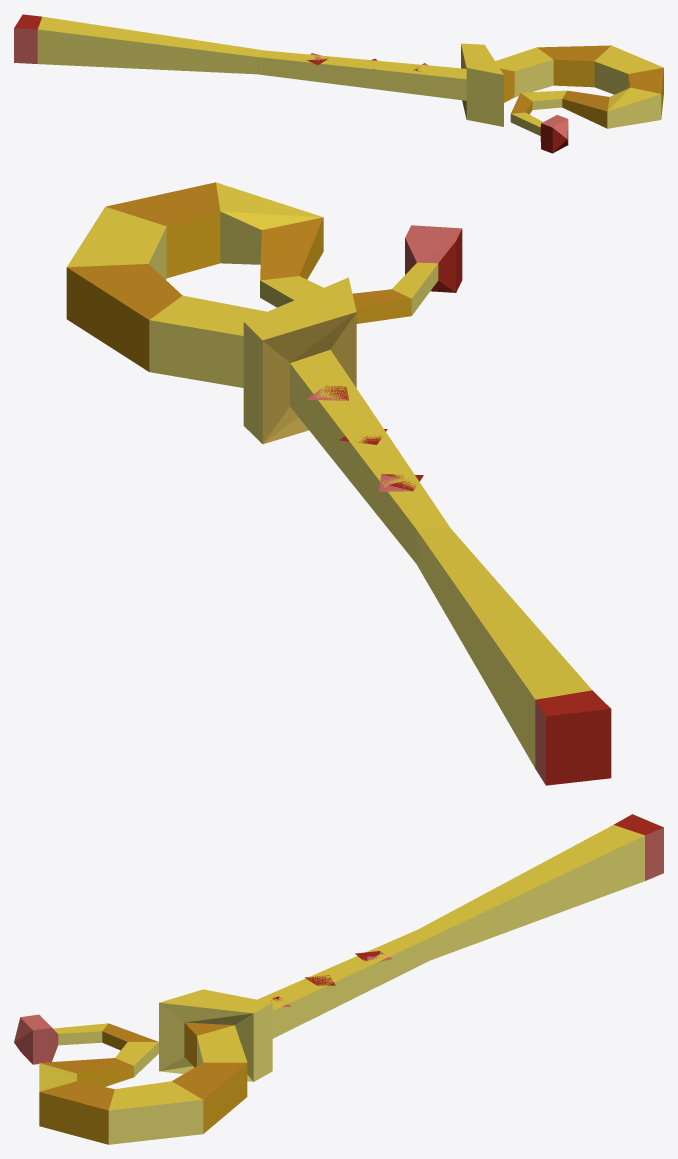
File: pharaoh-s-sceptre.gltf
3 renders of one model, top to bottom at view 1: azimuth 30°, elevation 25°; view 2: azimuth 150°, elevation 25°; view 3: azimuth 270°, elevation 25°, orthographic. The views are drawn at different scales.
Bounding box in the file's own units: 109 × 12 × 103.
Materials: 1 (1 with a texture image).
